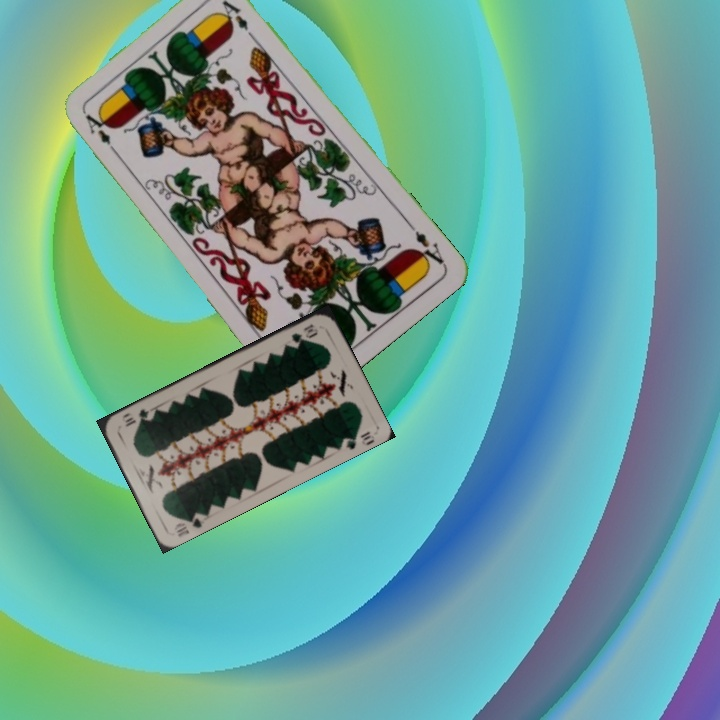EA: (404, 219, 447, 270), (81, 109, 121, 159)
G10: (170, 509, 205, 539), (287, 320, 321, 346)
